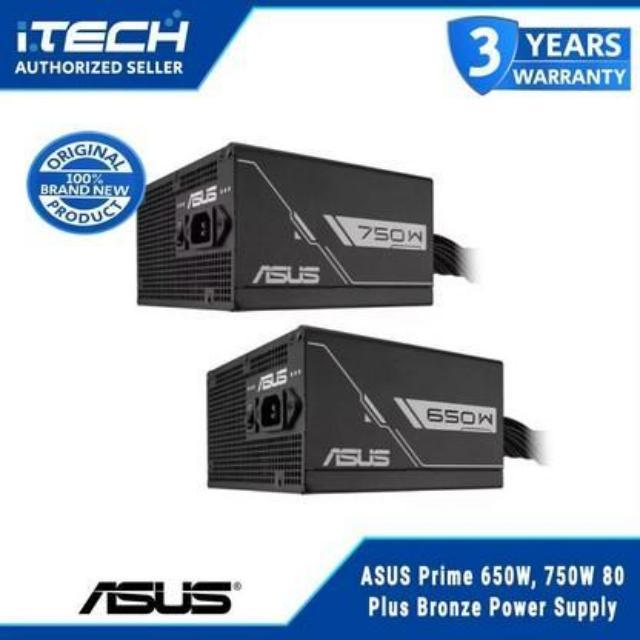PSU: (122, 123, 452, 323), (194, 317, 508, 503)
